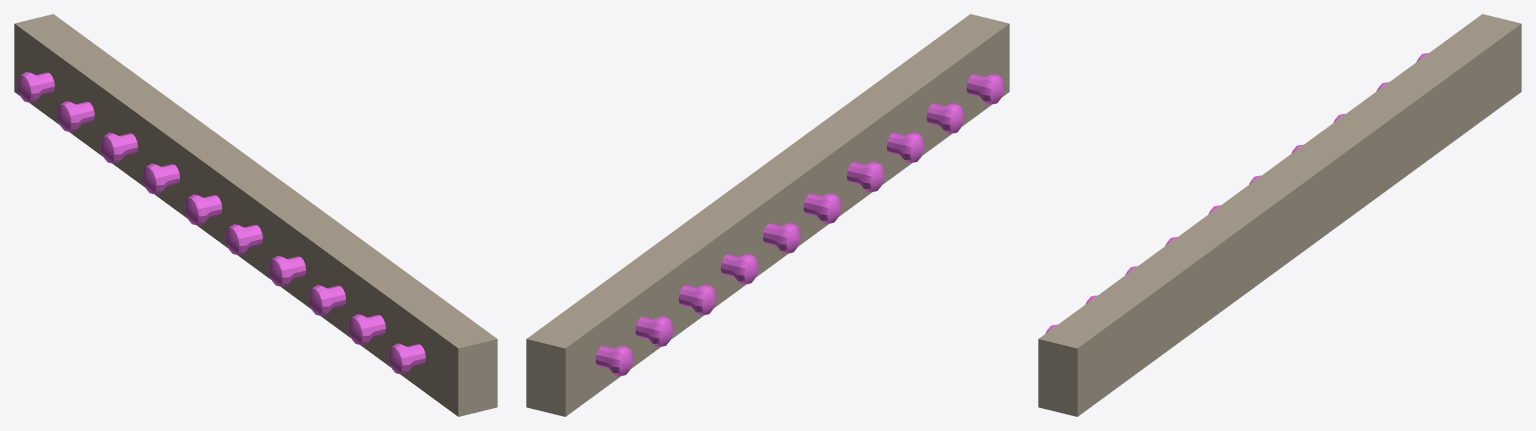
File: Percha.fbx
3 views of the same model, side by side, from view 1: azimuth 30°, elevation 25°; view 2: azimuth 150°, elevation 25°; view 3: azimuth 330°, elevation 25° (orthographic).
Visible parts, largest first — view 1: Percha; view 2: Percha; view 3: Percha.
Part boxes in pixels (<box>): Percha: <box>14,14,497,416</box>; Percha: <box>526,14,1009,416</box>; Percha: <box>1038,14,1521,416</box>.
Bounding box in the file's own units: 0.3316 × 0.3034 × 3.57.
